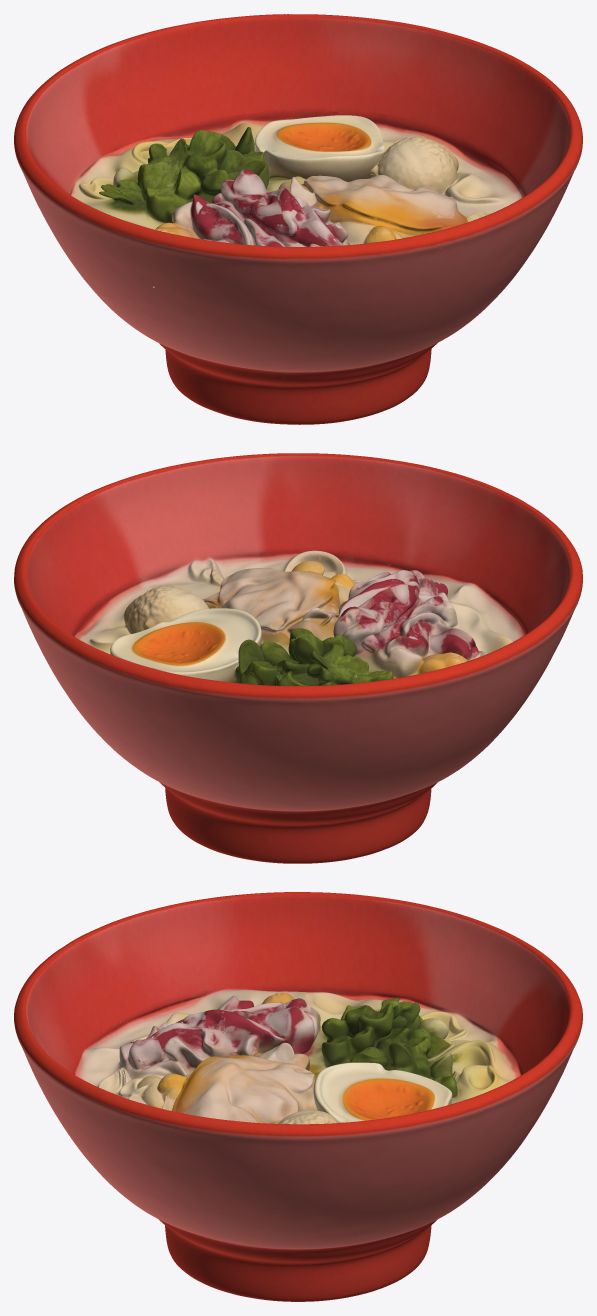
File: ShioRamen.glb
The picture shows the model from 3 angles, top to bottom: view 1: azimuth 30°, elevation 25°; view 2: azimuth 150°, elevation 25°; view 3: azimuth 270°, elevation 25°; orthographic projection.
Parts seen in each view (by area): view 1: tripo_node_aa08b69f-daa8-4273-8097-b177d494f9f8; view 2: tripo_node_aa08b69f-daa8-4273-8097-b177d494f9f8; view 3: tripo_node_aa08b69f-daa8-4273-8097-b177d494f9f8.
Part boxes in pixels (x1=…): tripo_node_aa08b69f-daa8-4273-8097-b177d494f9f8: x1=14, y1=14, x2=582, y2=424; tripo_node_aa08b69f-daa8-4273-8097-b177d494f9f8: x1=14, y1=453, x2=582, y2=863; tripo_node_aa08b69f-daa8-4273-8097-b177d494f9f8: x1=14, y1=892, x2=582, y2=1301.
Size of the model in its own units: 0.2932 by 0.1372 by 0.2939.
Materials: 1 (1 with a texture image).
